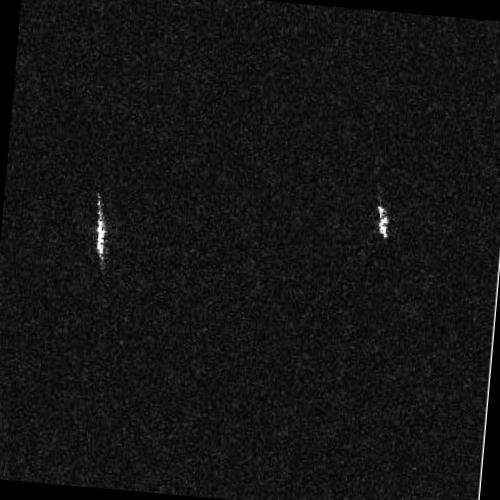ship: (94, 197, 108, 263), (374, 203, 390, 240)
